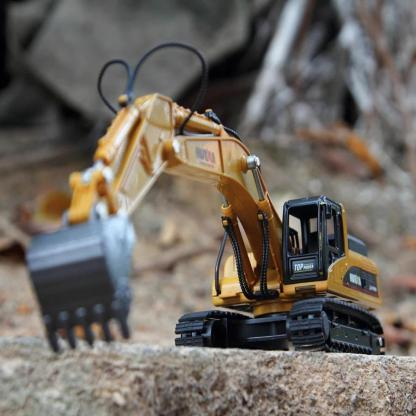excavator: (24, 56, 395, 371)
